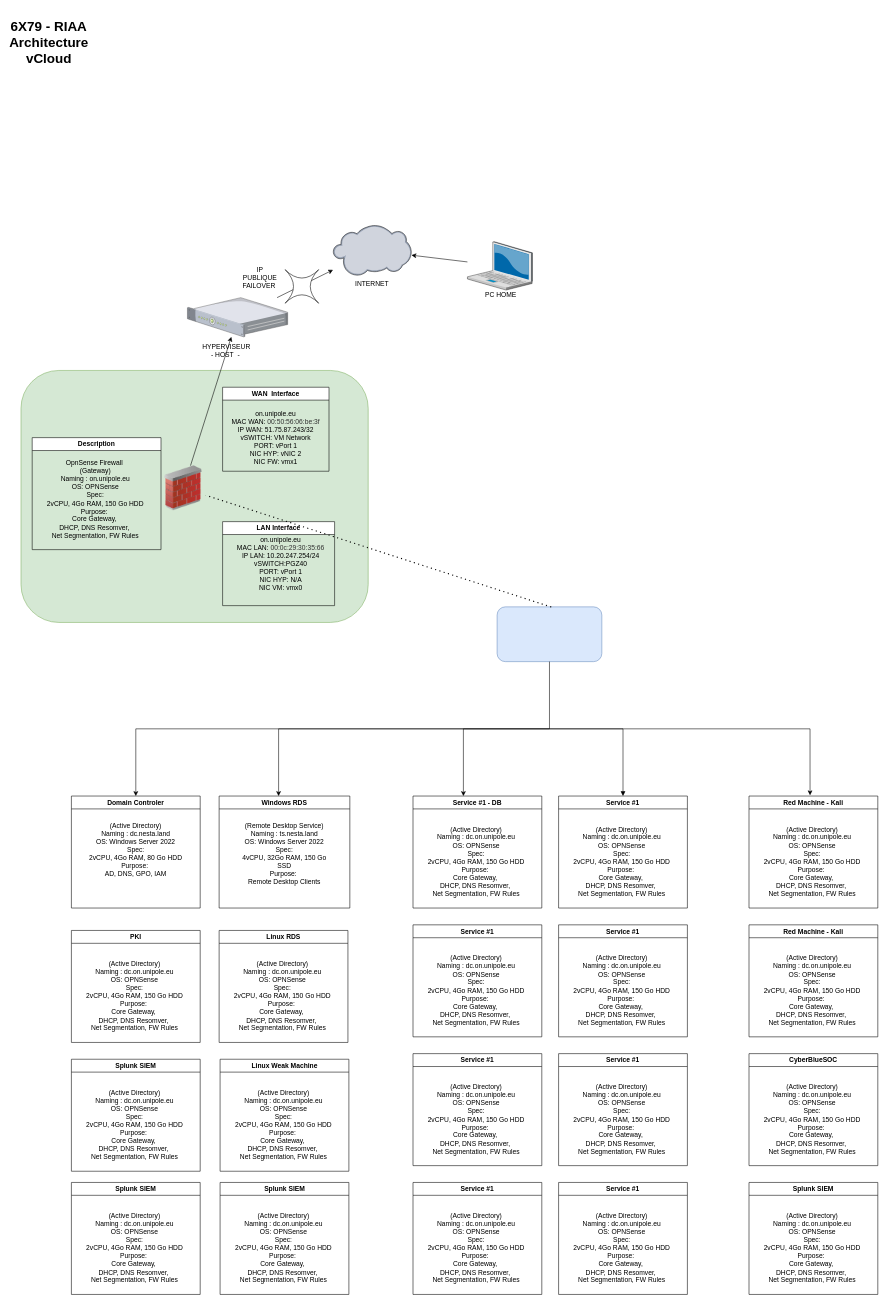
This 895x1304 diagram has some shape labels left out. The shapes that lost their labels are listed below. From the top down, each one's centre as x and y in pixels, then its label:
At point (302, 286): "OVH".
At point (549, 634): "LAN FLATPAK".
